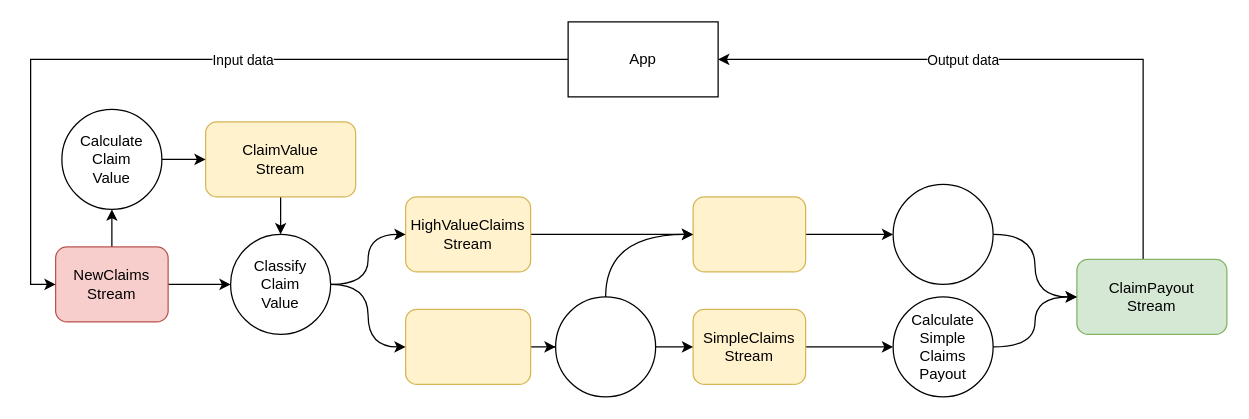
The diagram is 1249 pixels wide and 419 high, and some of its shapes have lost their labels. Here are the shapes that lost their labels. From the top down, the centre of each, then its label:
(x=749, y=234): ComplexClaims Stream
(x=942, y=233): Calculate Complex Claims Payout
(x=467, y=346): LowValueClaims Stream
(x=605, y=346): Classify Claim Complexity
